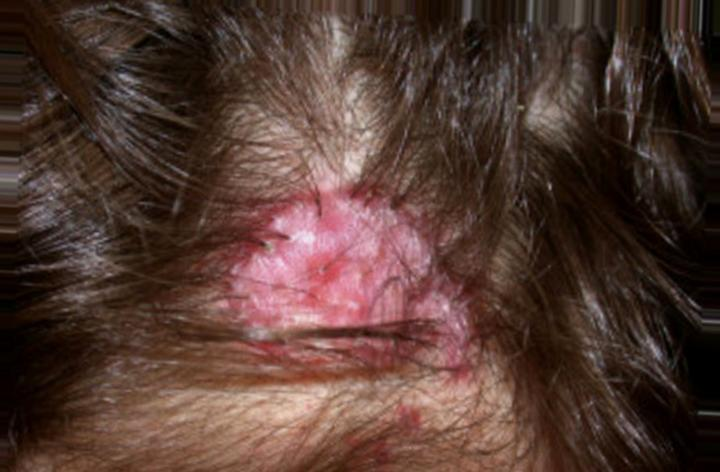Folliculitis: (236, 174, 460, 384)
